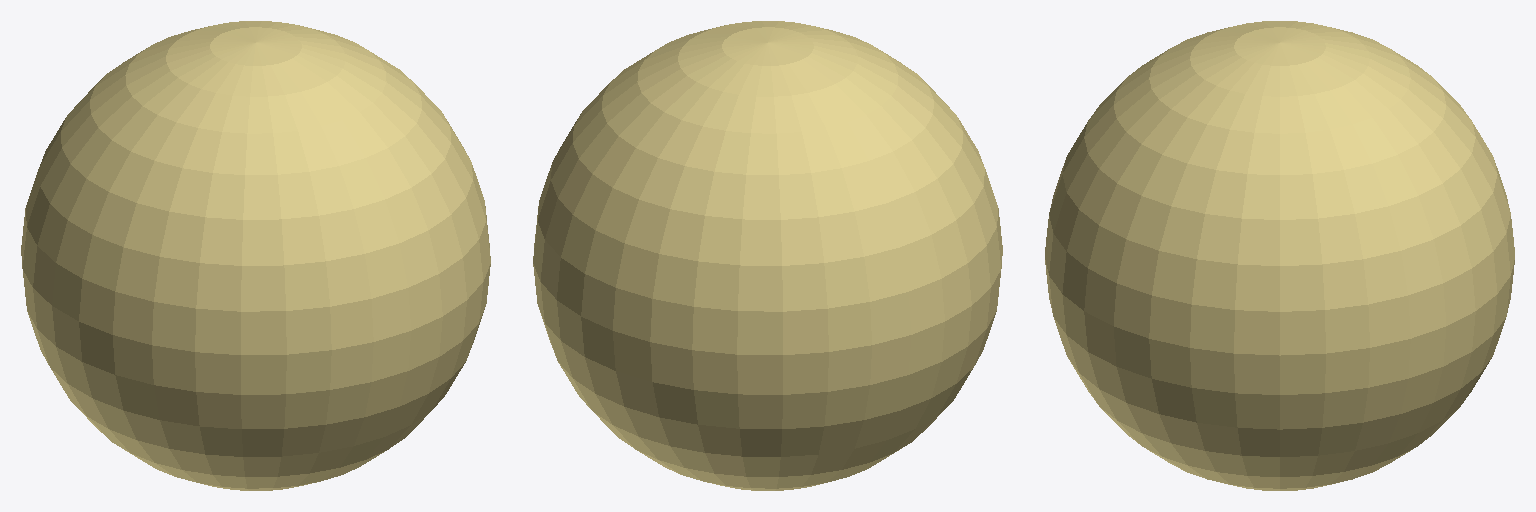
File: stars.obj
3 views of the same model, side by side, from view 1: azimuth 30°, elevation 25°; view 2: azimuth 150°, elevation 25°; view 3: azimuth 270°, elevation 25° (orthographic).
Parts seen in each view (by area): view 1: Sphere001; view 2: Sphere001; view 3: Sphere001.
Part boxes in pixels (bbox=[...]): Sphere001: bbox=[21, 21, 490, 490]; Sphere001: bbox=[533, 21, 1002, 490]; Sphere001: bbox=[1045, 21, 1514, 490].
Bounding box in the file's own units: 1553 × 1553 × 1553.